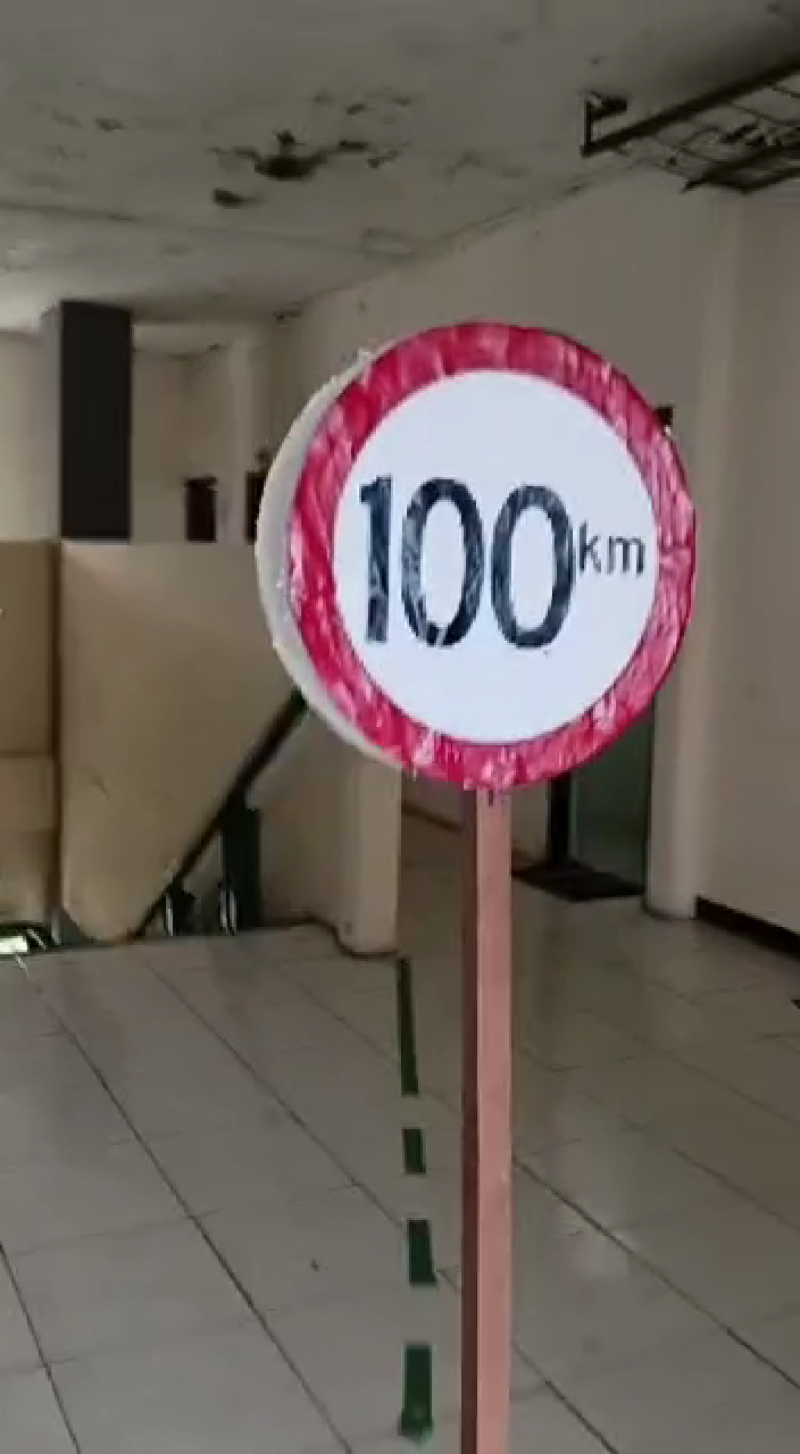batas maksimal 100kmperjam: (272, 311, 700, 799)
